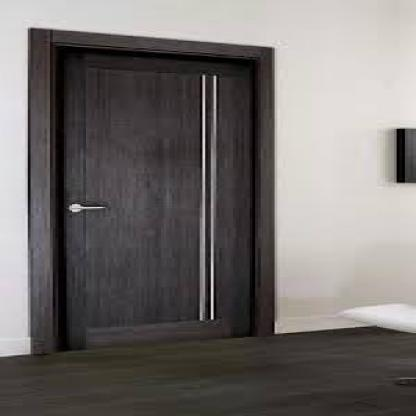door: (28, 33, 275, 332)
